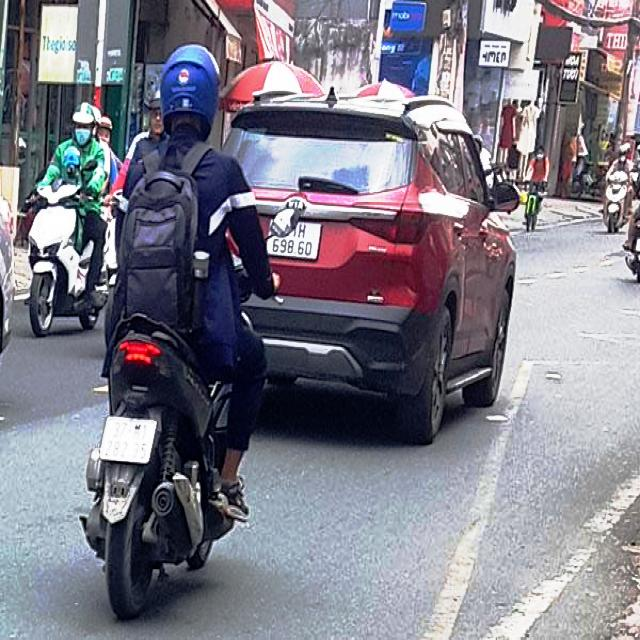license_plate: (101, 416, 159, 465)
